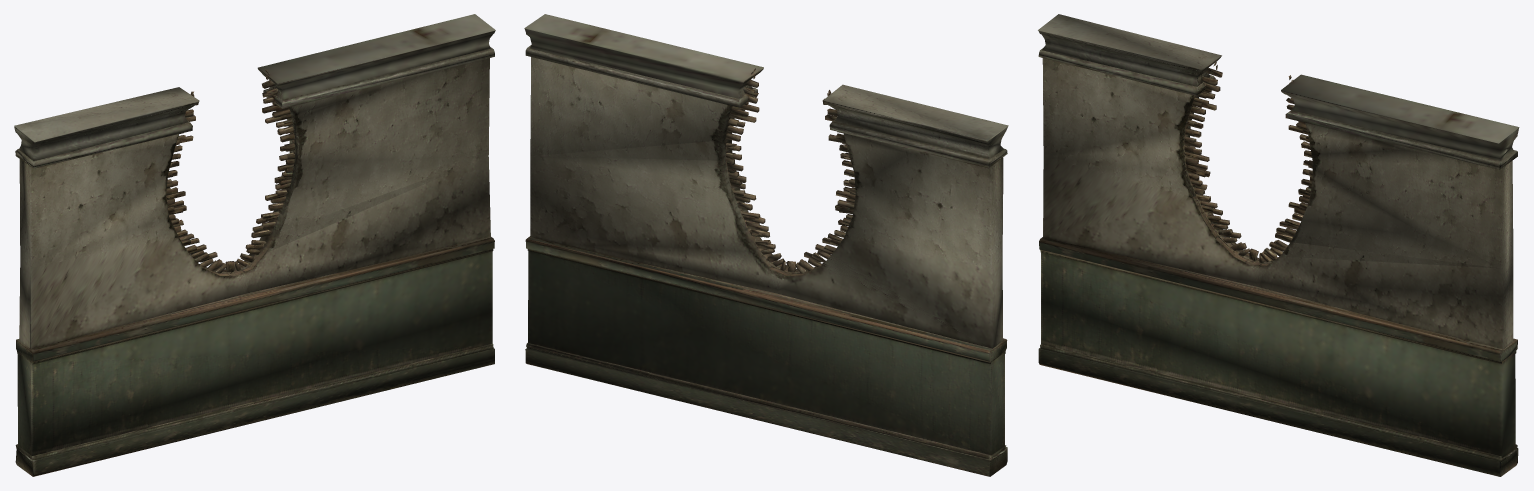
The model's file is broken_wall.fbx.
3 views of the same model, side by side, from view 1: azimuth 30°, elevation 25°; view 2: azimuth 150°, elevation 25°; view 3: azimuth 330°, elevation 25° (orthographic).
Visible parts, largest first — view 1: broken_wall; view 2: broken_wall; view 3: broken_wall.
Boxes of the visible parts, <box> form: broken_wall: <box>14,14,495,476</box>; broken_wall: <box>524,14,1008,476</box>; broken_wall: <box>1038,14,1519,476</box>.
Bounding box in the file's own units: 633 × 449 × 50.88.
1 material, 1 textured.
